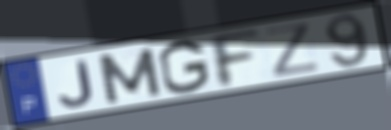9: (321, 13, 370, 69)
F: (204, 27, 264, 90)
G: (156, 38, 213, 96)
J: (57, 58, 97, 108)
M: (94, 45, 166, 106)
Z: (263, 20, 324, 79)
